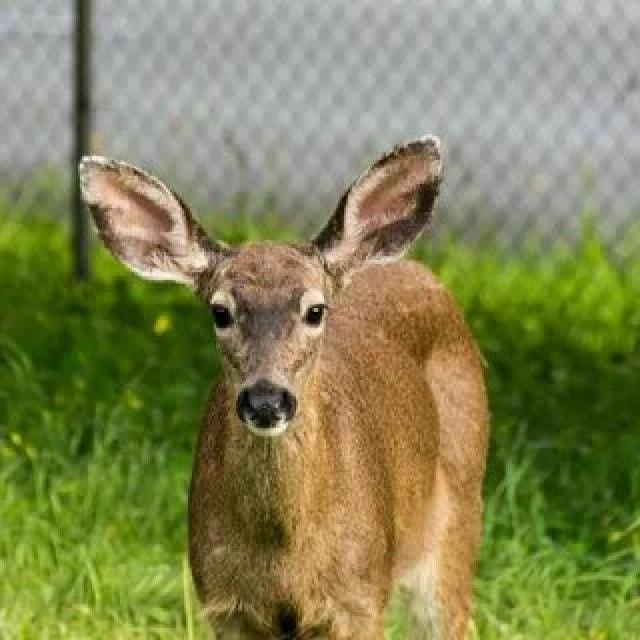deer: (96, 127, 497, 608)
